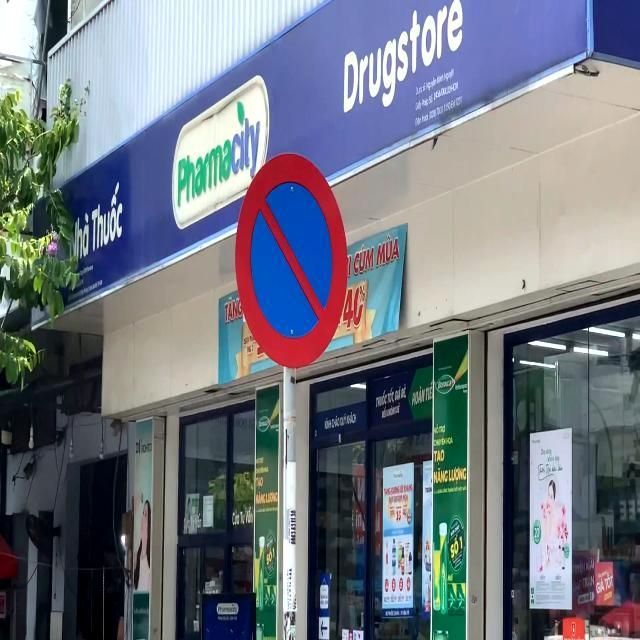Cam do xe: (234, 152, 349, 372)
